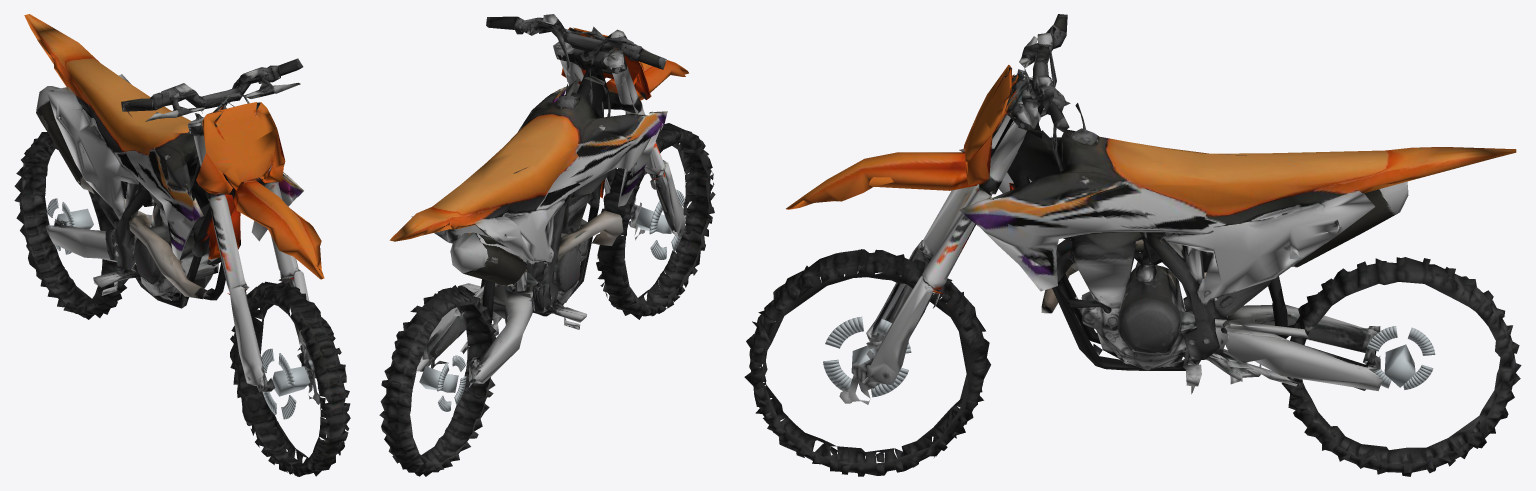
File: orange-cross-8000-EJont7OK.glb
The picture shows the model from 3 angles, left to right: view 1: azimuth 30°, elevation 25°; view 2: azimuth 150°, elevation 25°; view 3: azimuth 270°, elevation 25°; orthographic projection. The views are drawn at different scales.
Visible parts, largest first — view 1: SM_Tripo_Body, SM_Tripo_Fork, SM_Tripo_WheelFront, SM_Tripo_WheelRear, SM_Tripo_Handlebar, SM_Tripo_Swingarm_Chain, SM_Tripo_WheelFront_CleanSpokes, SM_Tripo_WheelRear_CleanSpokes; view 2: SM_Tripo_Body, SM_Tripo_WheelRear, SM_Tripo_WheelFront, SM_Tripo_Fork, SM_Tripo_Swingarm_Chain, SM_Tripo_Handlebar, SM_Tripo_WheelRear_CleanSpokes, SM_Tripo_WheelFront_CleanSpokes; view 3: SM_Tripo_Body, SM_Tripo_Fork, SM_Tripo_WheelRear, SM_Tripo_WheelFront, SM_Tripo_Swingarm_Chain, SM_Tripo_Handlebar, SM_Tripo_WheelRear_CleanSpokes, SM_Tripo_WheelFront_CleanSpokes.
Part boxes in pixels (x1,y1,x2,y2): SM_Tripo_Body: (24,14,297,308); SM_Tripo_Fork: (145,66,350,475); SM_Tripo_WheelFront: (230,281,350,476); SM_Tripo_WheelRear: (14,132,128,319); SM_Tripo_Handlebar: (121,58,303,140); SM_Tripo_Swingarm_Chain: (45,214,151,262); SM_Tripo_WheelFront_CleanSpokes: (261,348,310,419); SM_Tripo_WheelRear_CleanSpokes: (47,198,93,254); SM_Tripo_Body: (389,66,662,329); SM_Tripo_WheelRear: (379,285,496,476); SM_Tripo_WheelFront: (597,123,713,319); SM_Tripo_Fork: (526,14,715,316); SM_Tripo_Swingarm_Chain: (416,275,546,387); SM_Tripo_Handlebar: (486,16,666,73); SM_Tripo_WheelRear_CleanSpokes: (419,355,466,411); SM_Tripo_WheelFront_CleanSpokes: (635,190,686,259); SM_Tripo_Body: (944,103,1516,394); SM_Tripo_Fork: (749,25,1070,476); SM_Tripo_WheelRear: (1277,257,1521,476); SM_Tripo_WheelFront: (744,249,990,475); SM_Tripo_Swingarm_Chain: (1223,229,1382,391); SM_Tripo_Handlebar: (989,14,1069,132); SM_Tripo_WheelRear_CleanSpokes: (1365,326,1435,389); SM_Tripo_WheelFront_CleanSpokes: (823,316,911,397).
Size of the model in its own units: 0.8373 by 1.53 by 2.57.
Materials: 2 (1 with a texture image).
